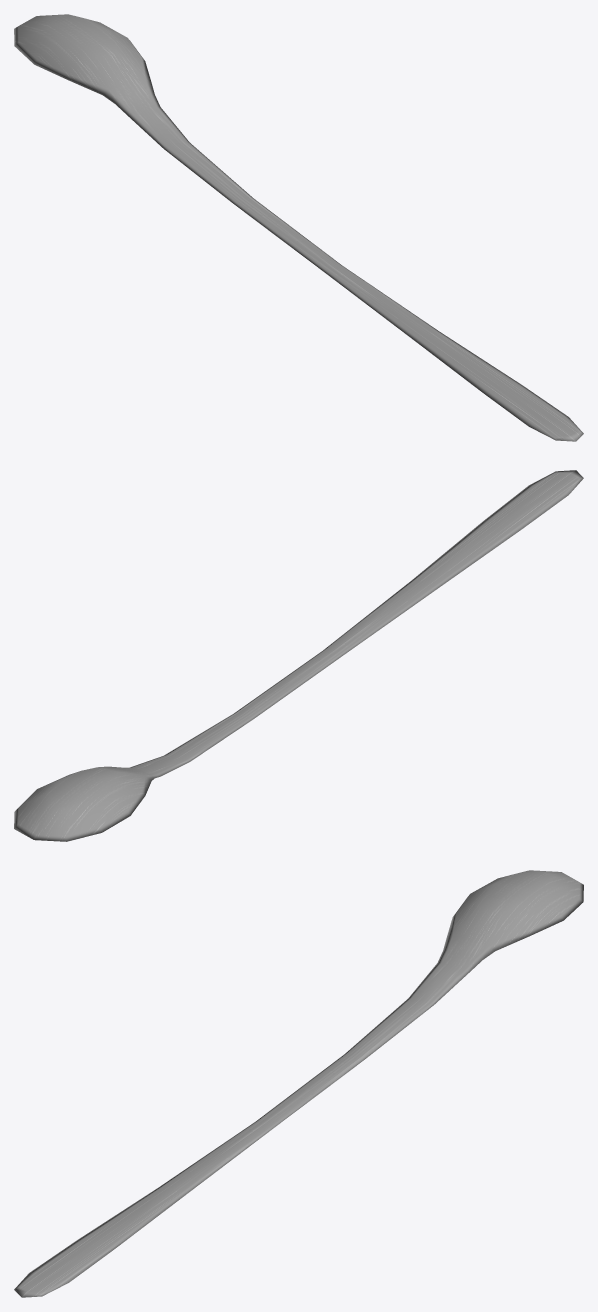
Rendered from spoonlong.glb.
3 views of the same model, one above another, from view 1: azimuth 30°, elevation 25°; view 2: azimuth 150°, elevation 25°; view 3: azimuth 330°, elevation 25° (orthographic).
Visible parts, largest first — view 1: spoonlong; view 2: spoonlong; view 3: spoonlong.
Part boxes in pixels (<box>): spoonlong: <box>14,14,583,441</box>; spoonlong: <box>14,470,583,841</box>; spoonlong: <box>14,870,583,1297</box>.
Size of the model in its own units: 0.139 by 0.0738 by 1.36.
Materials: 1 (1 with a texture image).
